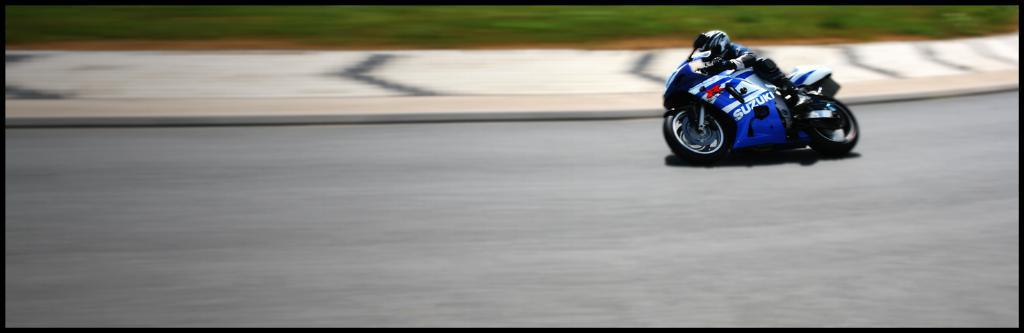helmet: (699, 29, 731, 68)
